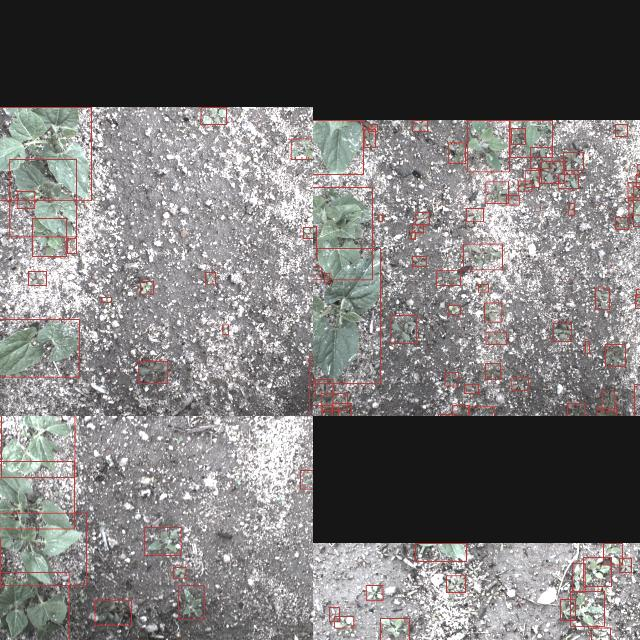crop: (313, 248, 380, 384), (0, 106, 91, 199), (0, 512, 87, 585), (313, 186, 372, 279), (10, 158, 76, 236), (0, 460, 74, 528), (0, 571, 68, 640), (0, 319, 79, 377), (1, 416, 75, 477), (313, 119, 363, 174), (416, 542, 466, 560)
weed: (467, 119, 509, 171), (510, 120, 552, 156), (32, 218, 66, 256), (570, 590, 604, 626), (144, 527, 182, 555), (463, 243, 502, 269), (178, 585, 204, 619), (95, 600, 131, 624), (583, 556, 611, 586), (391, 315, 417, 343), (138, 361, 168, 383), (380, 617, 410, 639), (313, 379, 333, 405), (542, 160, 564, 182), (530, 146, 552, 168), (290, 137, 313, 158), (321, 394, 347, 411), (605, 344, 625, 366), (486, 182, 508, 202), (202, 106, 226, 124), (572, 562, 586, 592), (604, 542, 622, 564), (563, 151, 583, 169), (484, 302, 502, 322), (448, 142, 466, 162), (446, 574, 466, 592), (560, 598, 576, 620), (437, 270, 461, 284), (17, 190, 35, 208), (553, 323, 571, 341), (559, 172, 579, 188), (596, 287, 610, 309), (524, 170, 540, 187), (591, 626, 610, 640), (366, 584, 382, 600), (28, 271, 46, 285), (466, 207, 484, 221), (602, 391, 614, 412), (332, 403, 351, 416), (486, 331, 506, 343), (468, 407, 494, 416), (301, 469, 313, 488), (511, 127, 525, 143), (486, 363, 500, 379), (567, 403, 584, 416), (628, 181, 640, 199), (334, 616, 354, 626), (140, 280, 154, 294), (444, 372, 458, 386), (512, 378, 528, 390), (620, 556, 632, 572), (629, 196, 640, 213), (452, 405, 469, 416), (365, 128, 375, 146), (597, 407, 617, 416), (416, 212, 430, 224), (615, 122, 627, 136), (412, 120, 428, 130), (616, 217, 628, 229), (323, 407, 339, 416), (174, 567, 186, 579), (464, 384, 478, 394), (506, 194, 520, 204), (518, 180, 532, 190), (412, 256, 426, 266), (330, 606, 340, 620), (205, 271, 215, 283), (448, 304, 460, 314), (68, 238, 76, 252), (303, 226, 313, 237), (412, 224, 423, 232), (478, 283, 488, 291), (568, 202, 574, 214), (635, 294, 640, 308), (222, 324, 228, 334), (101, 296, 111, 302), (368, 124, 378, 130), (324, 272, 330, 282), (636, 173, 640, 187), (313, 266, 320, 274), (585, 341, 589, 353), (410, 232, 416, 238), (378, 213, 382, 220), (637, 289, 640, 297)
